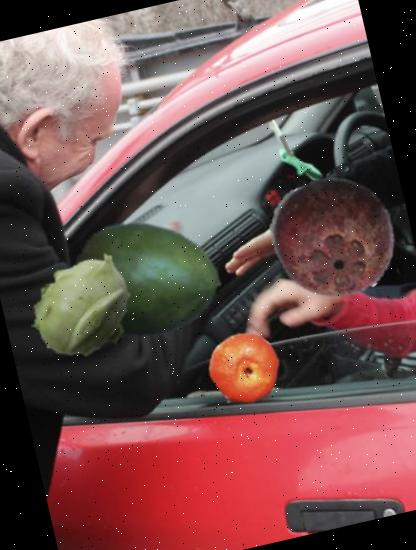Clementine: (200, 325, 288, 414)
Kohlrabi: (19, 239, 153, 374)
Mango: (57, 194, 233, 371)
Mangostan: (260, 162, 410, 313)
Melon: (259, 170, 385, 296)
